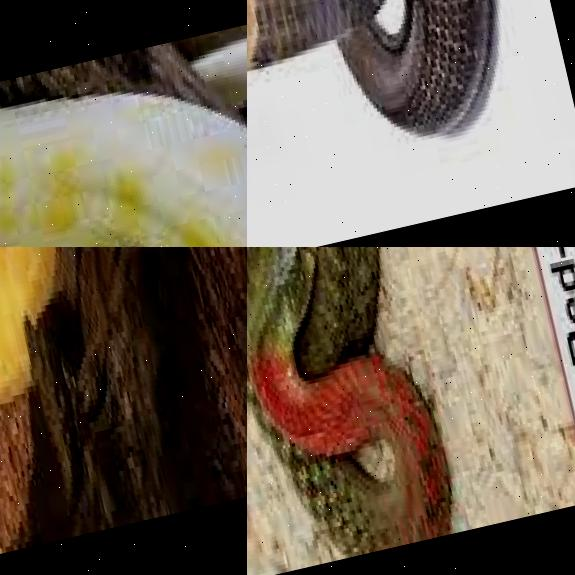snake: (247, 247, 535, 575), (247, 0, 553, 203), (0, 0, 247, 247), (0, 247, 247, 453)
